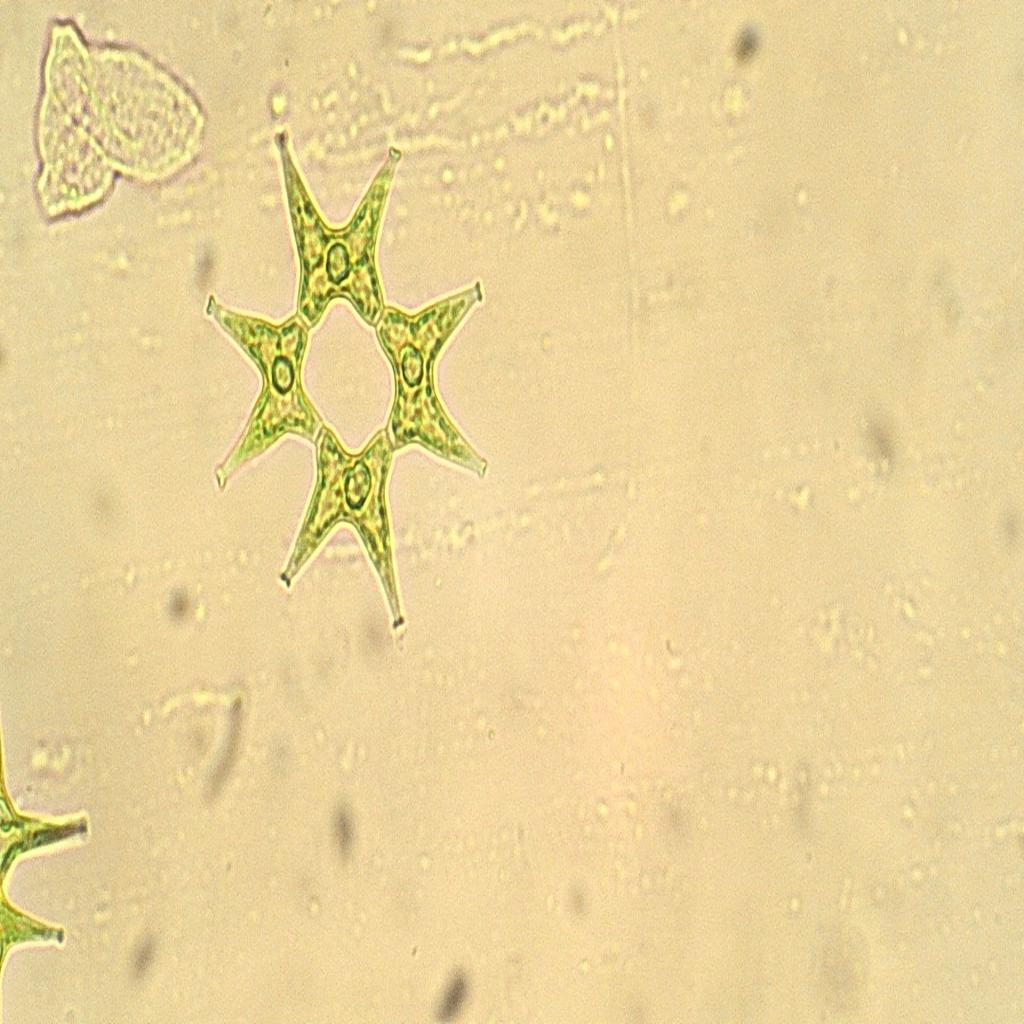Pediastrum_CO: (182, 108, 517, 644)
